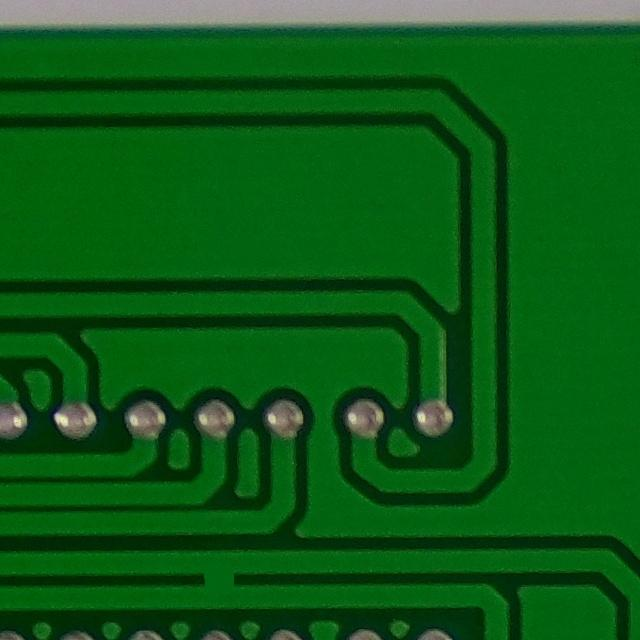short: (178, 544, 259, 615)
